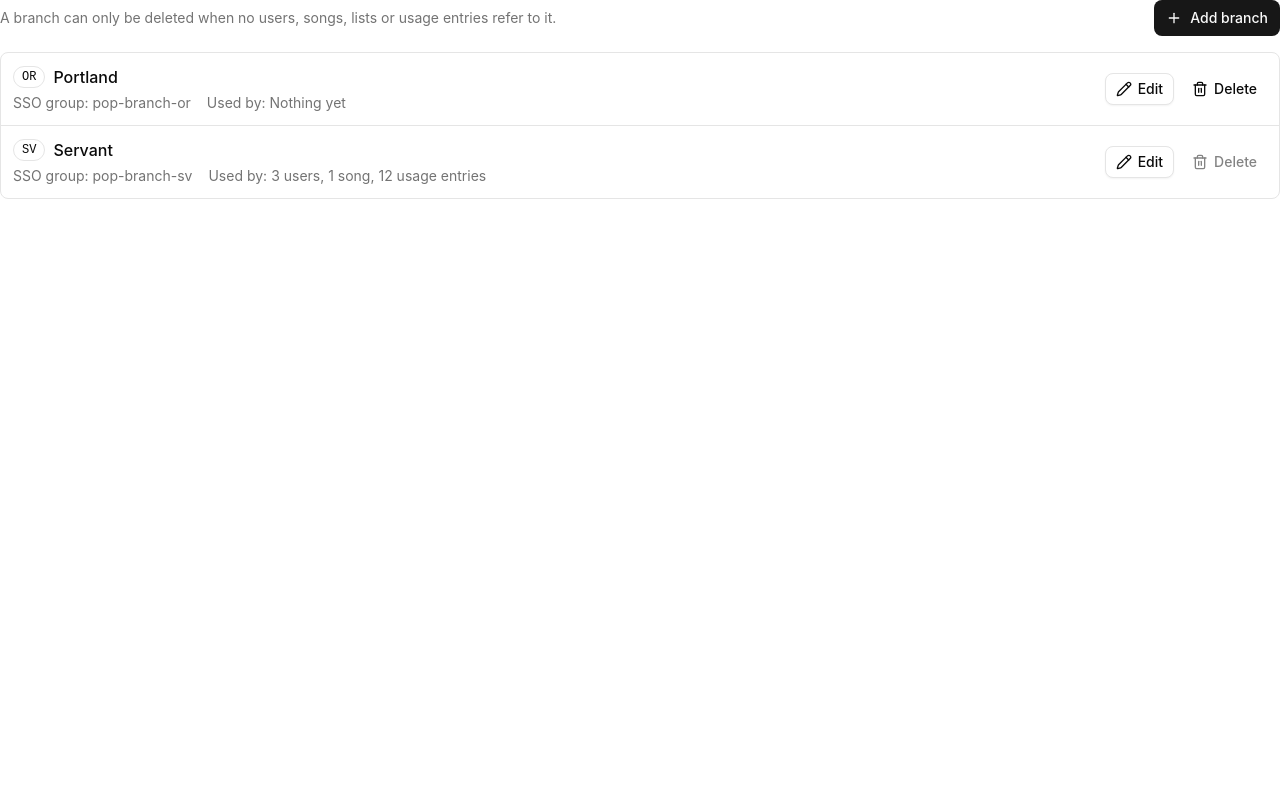
BranchesAdmin › deletes an unused branch after confirming
What coordinates should you click on to do the following:
click the button with aria-label "Delete Portland"
I would click on:
 (1225, 89)
Its box is [1182, 73, 1267, 105].
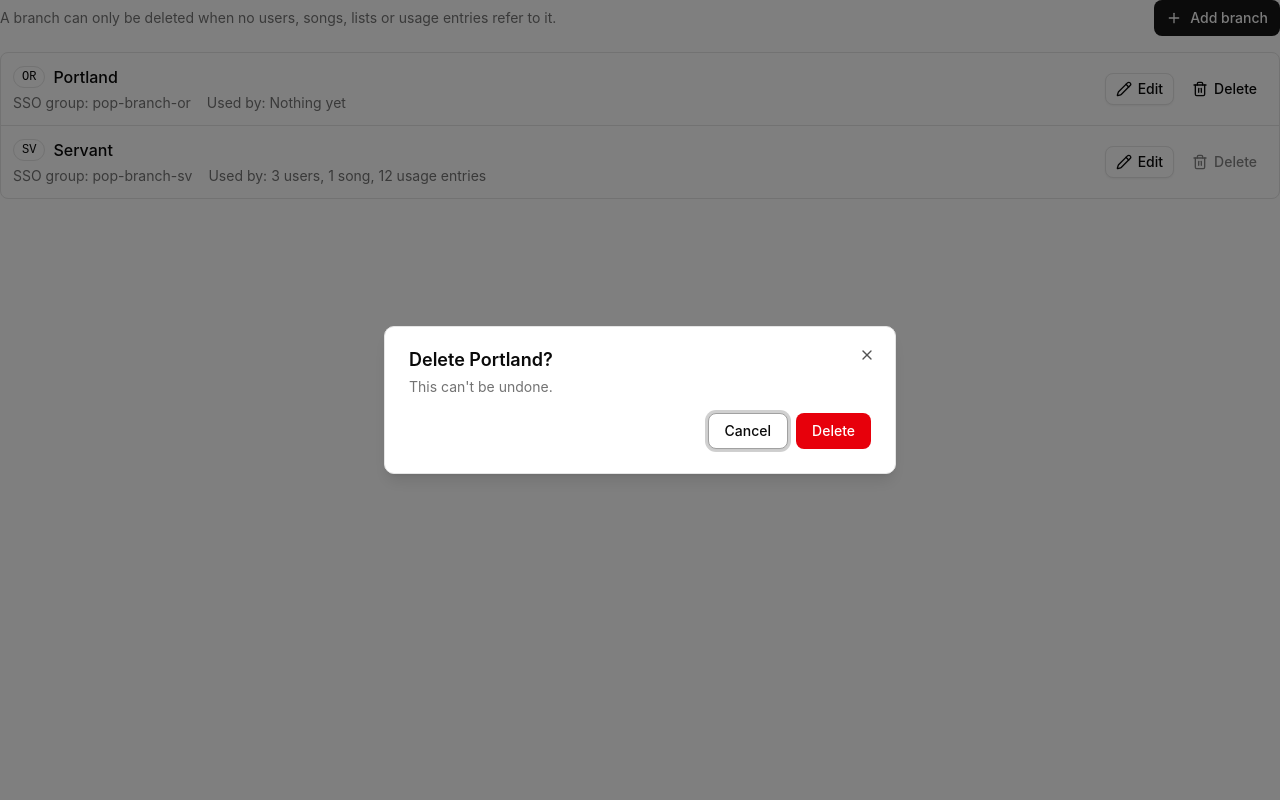
What coordinates should you click on to do the following:
click the button "Delete"
I would click on:
 (834, 431)
Its box is [796, 413, 871, 449].
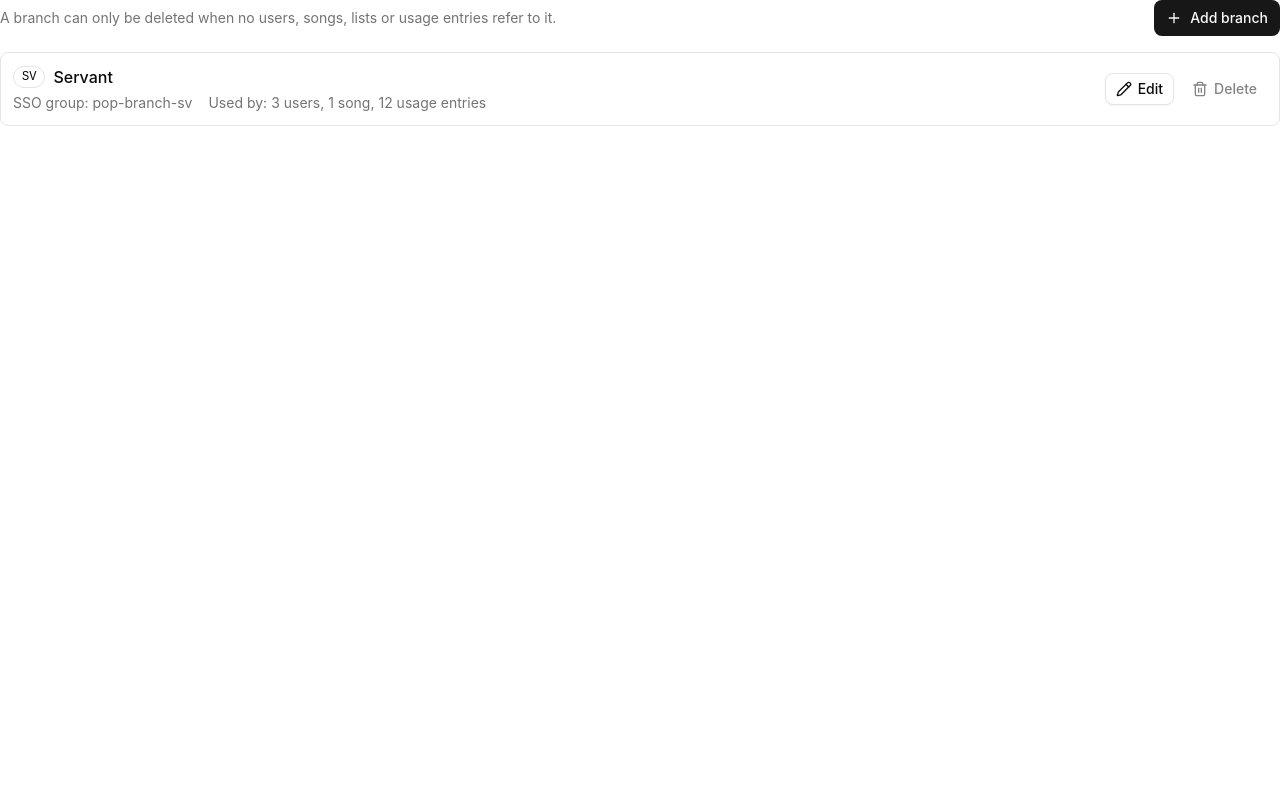
Now the text "Portland" is gone
